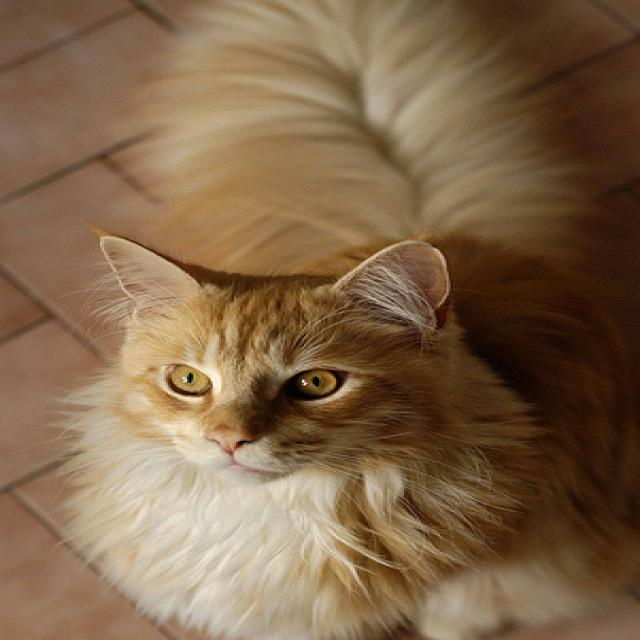Maine Coon: (64, 0, 640, 640)
